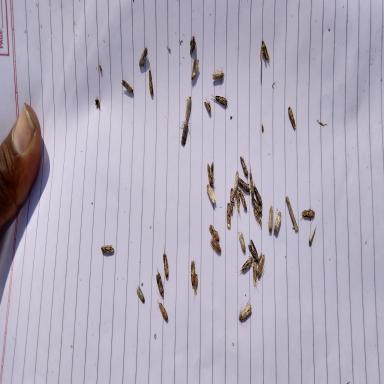pbw: (237, 303, 252, 325), (182, 99, 194, 125), (155, 272, 166, 298), (119, 76, 133, 96), (250, 195, 263, 216), (240, 254, 252, 276), (180, 119, 189, 148), (257, 253, 267, 279), (210, 65, 224, 83), (238, 187, 248, 212), (161, 249, 169, 280), (253, 183, 264, 205), (157, 302, 168, 324), (136, 281, 146, 305), (250, 237, 259, 262), (259, 42, 270, 62), (216, 93, 228, 111), (190, 58, 199, 82), (274, 210, 283, 234), (100, 242, 114, 257), (236, 232, 246, 253), (146, 70, 154, 96), (288, 105, 296, 131), (205, 185, 216, 203), (235, 184, 241, 216), (139, 46, 147, 70), (206, 164, 214, 188), (253, 208, 263, 227), (210, 222, 220, 241), (189, 258, 195, 289), (210, 238, 222, 253), (301, 207, 315, 219), (229, 188, 235, 215), (267, 205, 273, 232), (252, 257, 257, 289), (232, 170, 238, 196), (240, 157, 248, 175), (238, 181, 251, 192), (249, 170, 254, 198), (226, 202, 231, 229), (308, 227, 316, 242), (204, 98, 211, 115), (194, 274, 200, 293)
